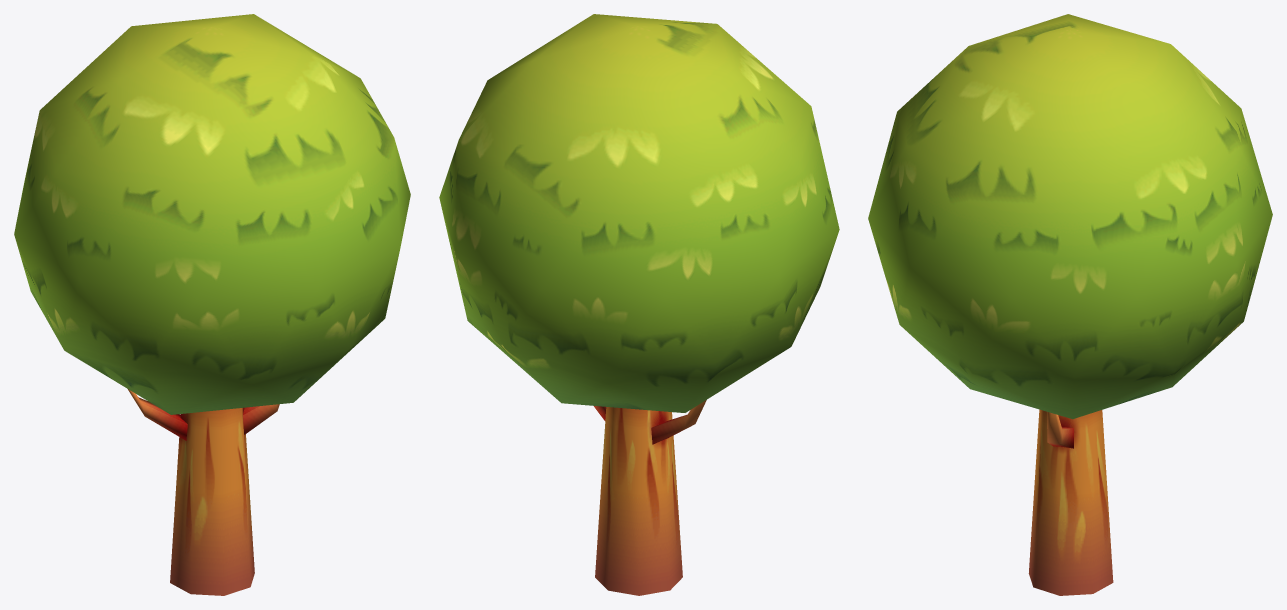
File: Envi_Pohon.fbx
The picture shows the model from 3 angles, left to right: view 1: azimuth 30°, elevation 25°; view 2: azimuth 150°, elevation 25°; view 3: azimuth 270°, elevation 25°; orthographic projection.
Visible parts, largest first — view 1: Envi_Pohon; view 2: Envi_Pohon; view 3: Envi_Pohon.
Boxes of the visible parts, x1,y1,x2,y2 form: Envi_Pohon: [14, 14, 410, 595]; Envi_Pohon: [439, 14, 839, 595]; Envi_Pohon: [868, 14, 1272, 595].
Bounding box in the file's own units: 284 × 442 × 296.
Materials: 1 (1 with a texture image).
